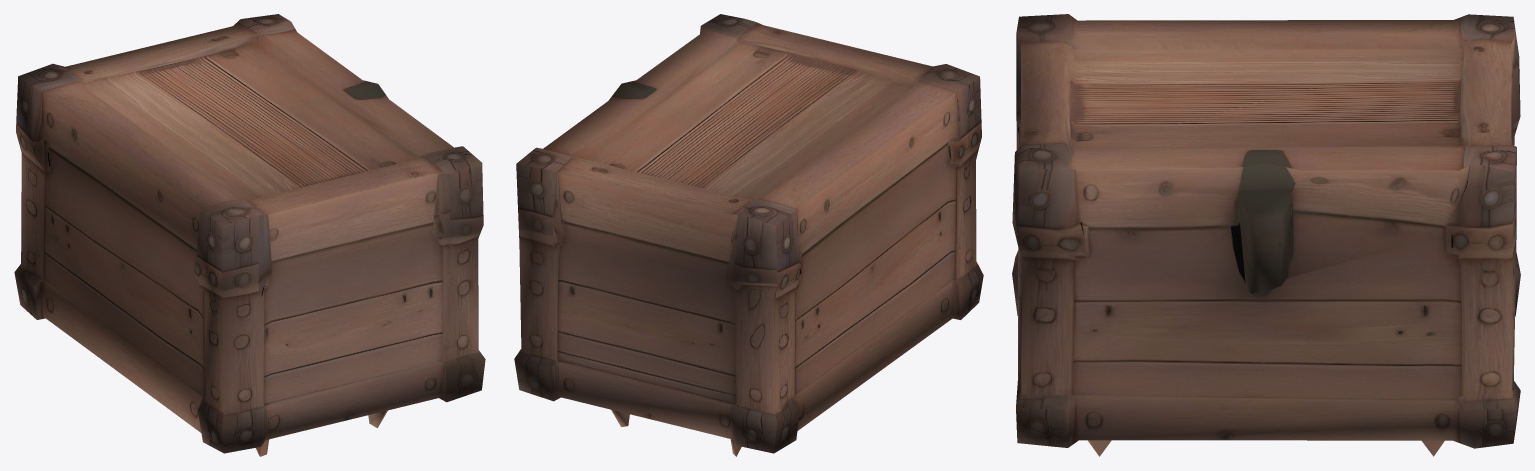
Rendered from WoodenBoWithBase ex.fbx.
The picture shows the model from 3 angles, left to right: view 1: azimuth 30°, elevation 25°; view 2: azimuth 150°, elevation 25°; view 3: azimuth 270°, elevation 25°; orthographic projection. The views are drawn at different scales.
Visible parts, largest first — view 1: tripo_node_120b57c3; view 2: tripo_node_120b57c3; view 3: tripo_node_120b57c3.
Boxes of the visible parts, x1,y1,x2,y2 form: tripo_node_120b57c3: (14,14,485,456); tripo_node_120b57c3: (514,14,983,456); tripo_node_120b57c3: (1012,14,1520,456).
Bounding box in the file's own units: 71.39 × 68.62 × 94.46.
1 material, 1 textured.
